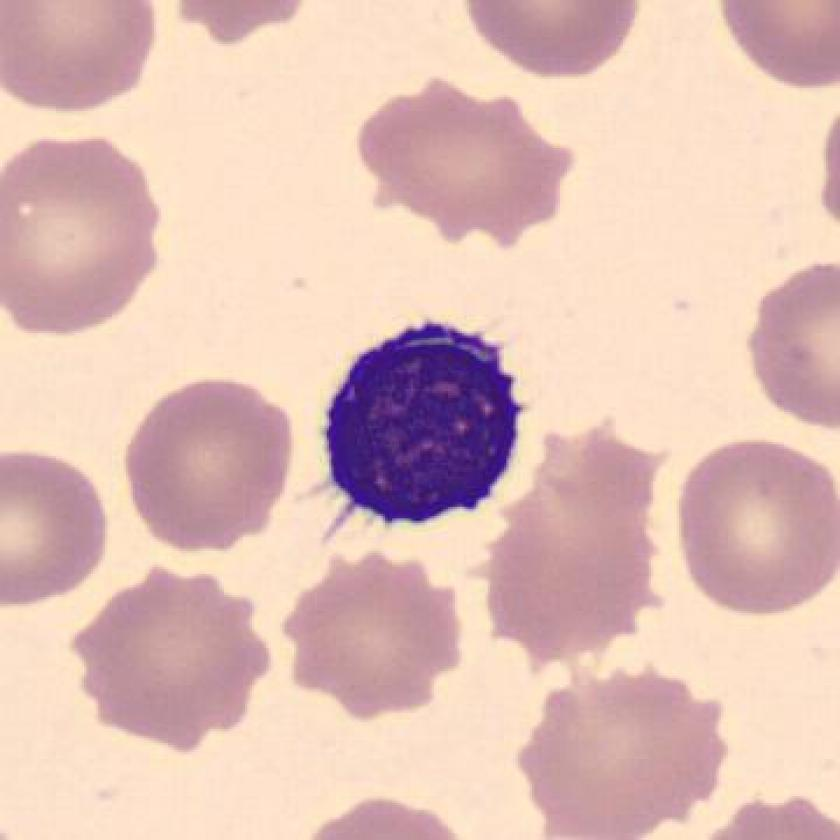lymphocyte: (305, 302, 543, 554)
